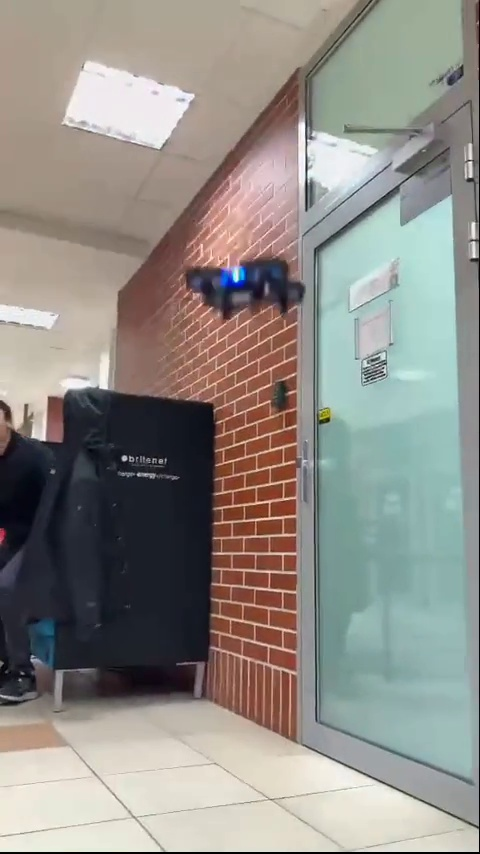drone: (186, 258, 309, 321)
